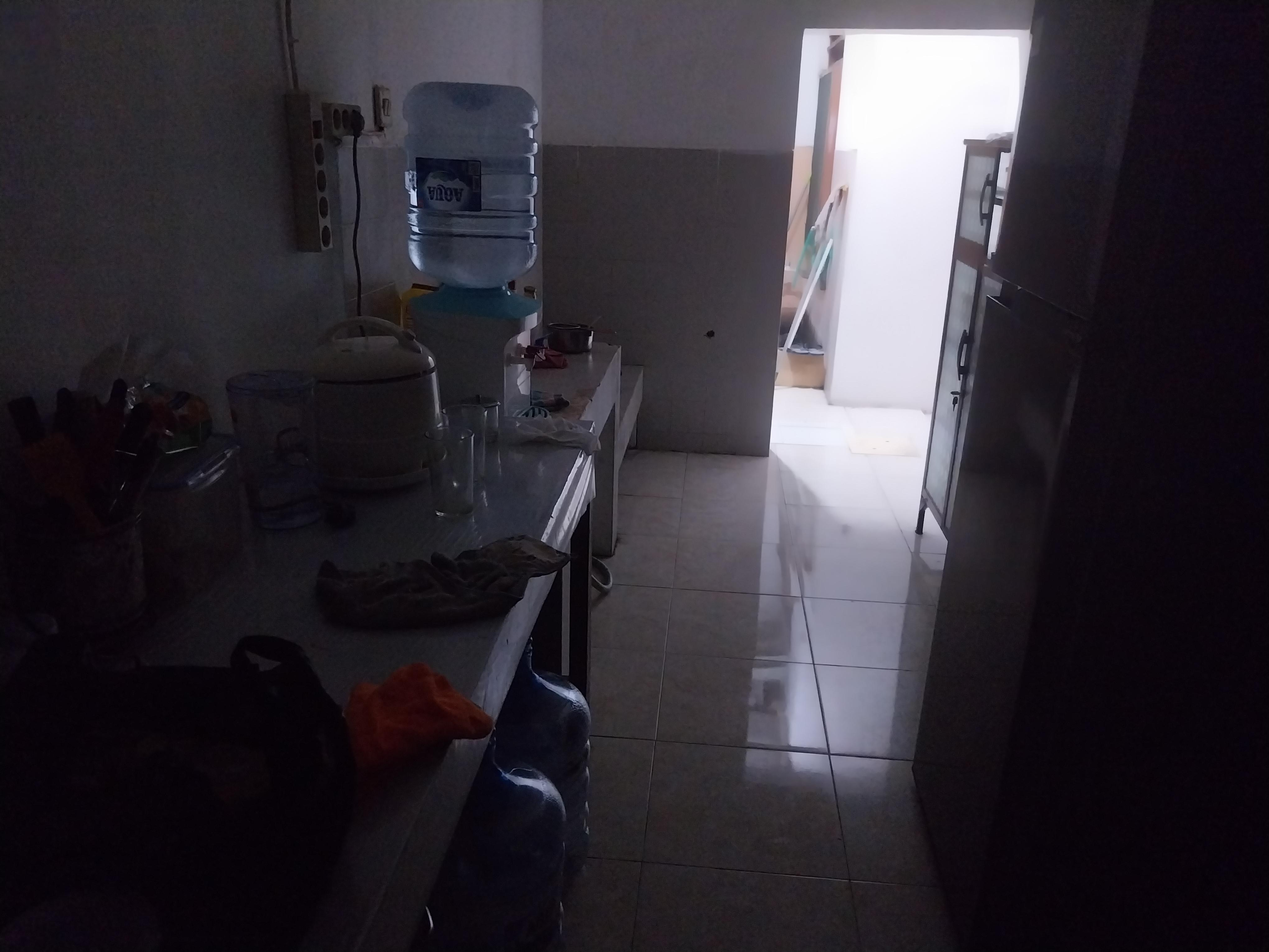cabinet-merged: (914, 135, 1020, 544)
floor-other-merged: (560, 386, 971, 952)
refrigerator: (911, 0, 1269, 952)
towel: (303, 633, 497, 815), (313, 528, 577, 639)
